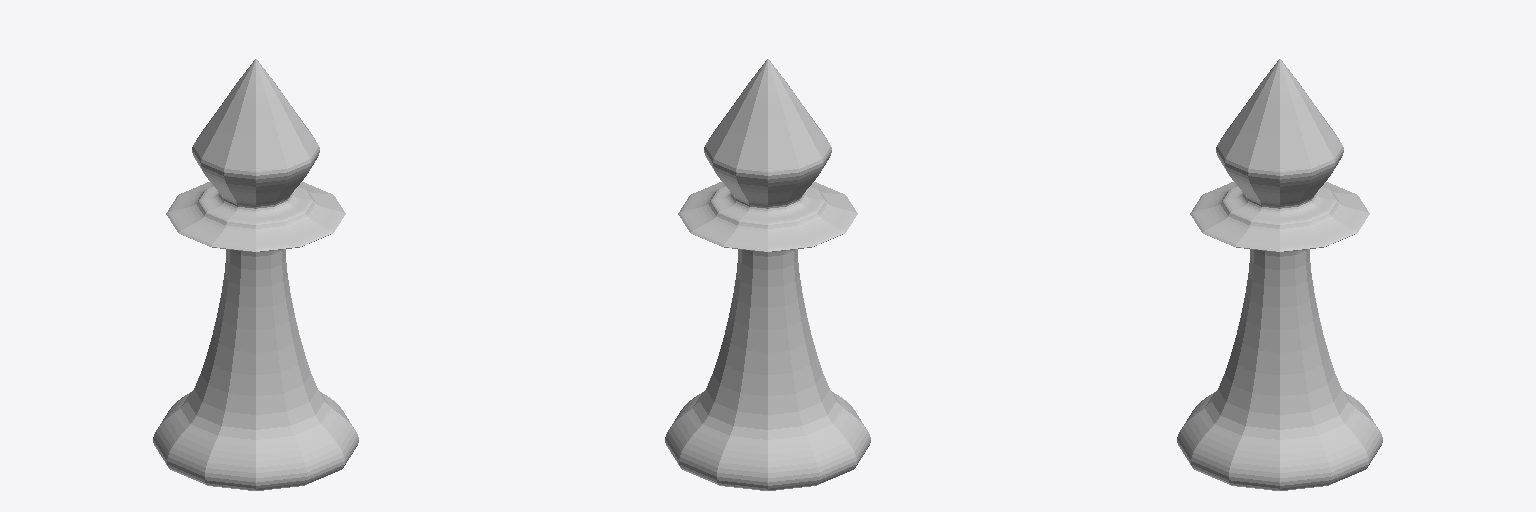
The model's file is skoczek.obj.
3 renders of one model, left to right at view 1: azimuth 30°, elevation 25°; view 2: azimuth 150°, elevation 25°; view 3: azimuth 270°, elevation 25°, orthographic.
Visible parts, largest first — view 1: czarny_goniec; view 2: czarny_goniec; view 3: czarny_goniec.
Boxes of the visible parts, x1=… form: czarny_goniec: x1=153, y1=59, x2=358, y2=490; czarny_goniec: x1=665, y1=59, x2=870, y2=490; czarny_goniec: x1=1177, y1=59, x2=1382, y2=490.
Size of the model in its own units: 1.56 by 3.3 by 1.56.